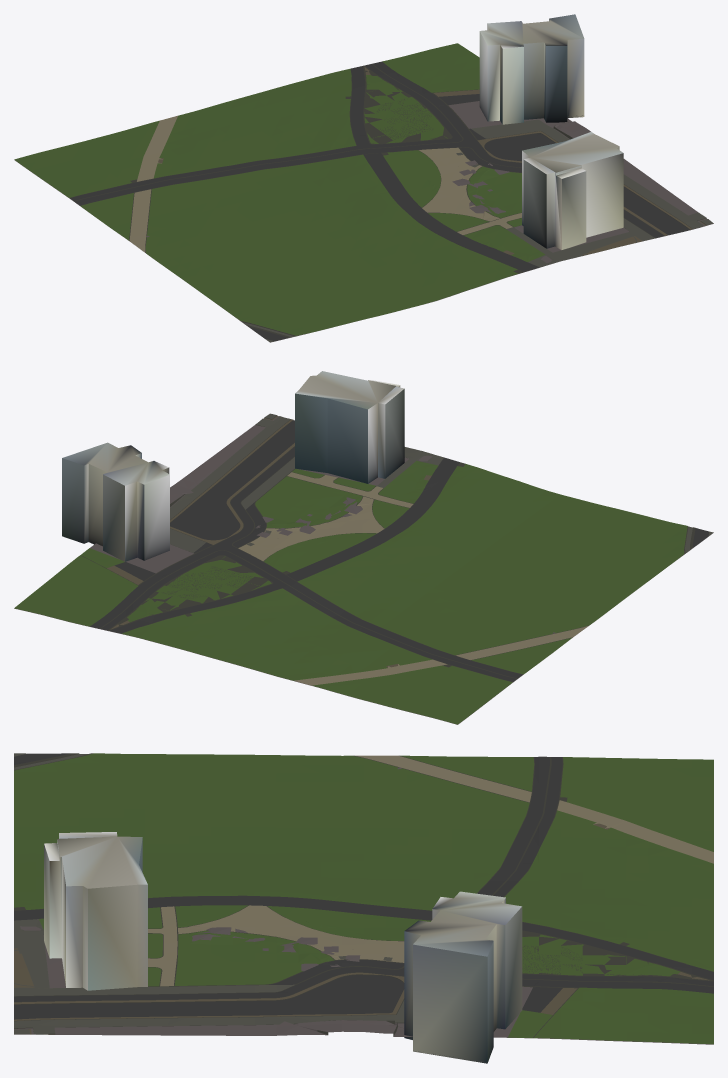
3 renders of one model, top to bottom at view 1: azimuth 30°, elevation 25°; view 2: azimuth 150°, elevation 25°; view 3: azimuth 270°, elevation 25°, orthographic. The views are drawn at different scales.
Parts seen in each view (by area): view 1: c_m07_m07; view 2: c_m07_m07; view 3: c_m07_m07.
Boxes of the visible parts, x1,y1,x2,y2 form: c_m07_m07: (14, 14, 713, 342); c_m07_m07: (14, 371, 713, 724); c_m07_m07: (14, 753, 713, 1063).
Size of the model in its own units: 138 by 24.67 by 128.
